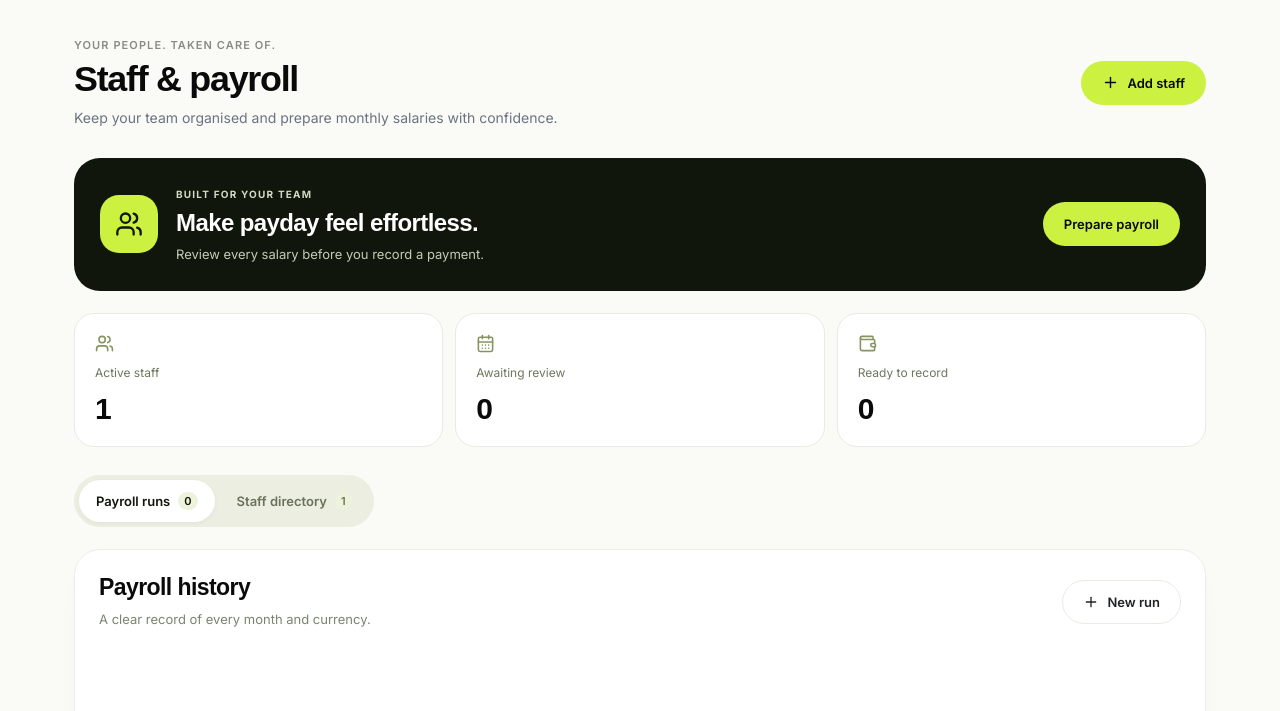
Test: prepares, reviews, approves and explicitly confirms a demo payment
Click the button "Prepare payroll".
click(1111, 224)  # box [1043,202,1180,246]
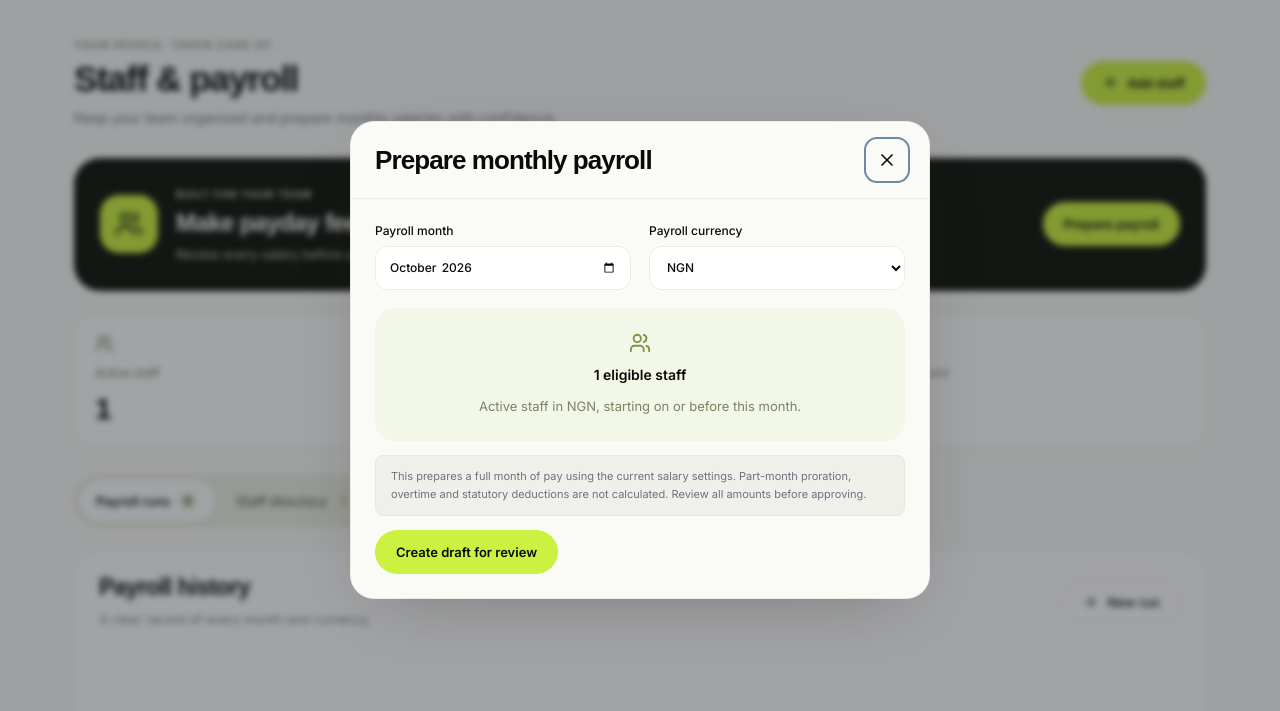
Click the button "Create draft for review".
click(467, 552)  # box [375,530,558,574]
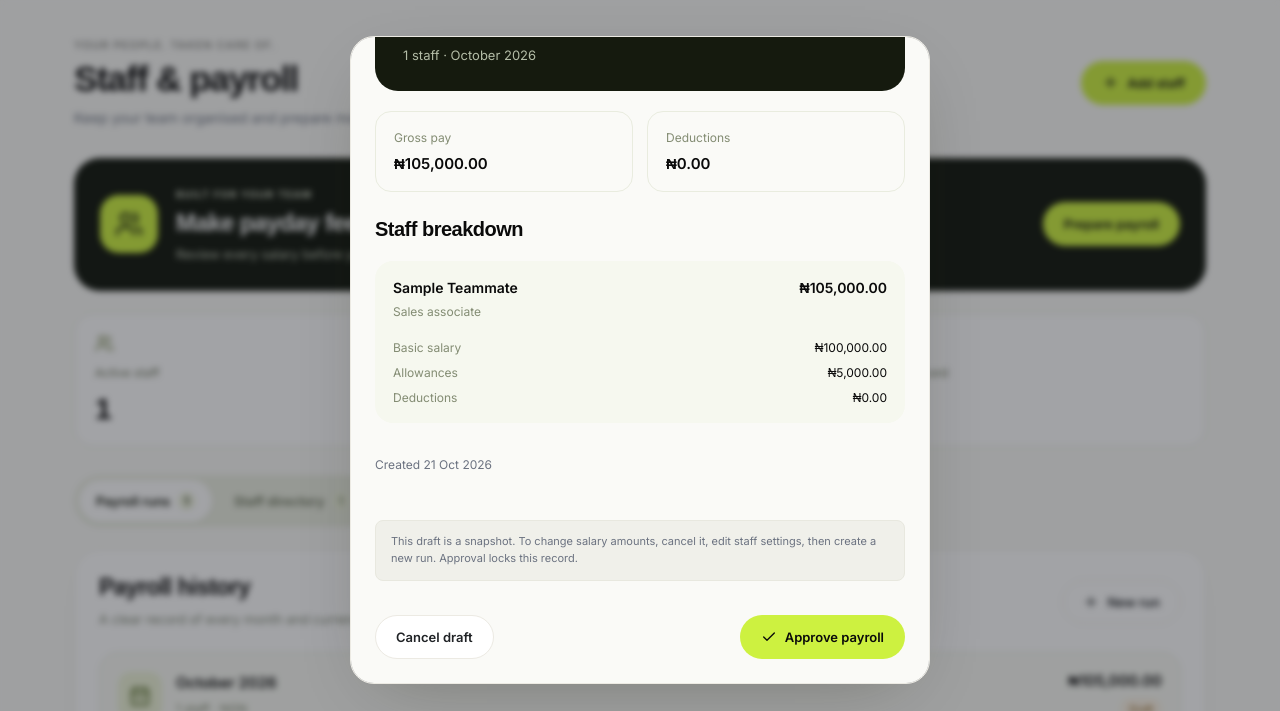
Click the button "Approve payroll".
click(822, 637)  # box [740,615,905,659]
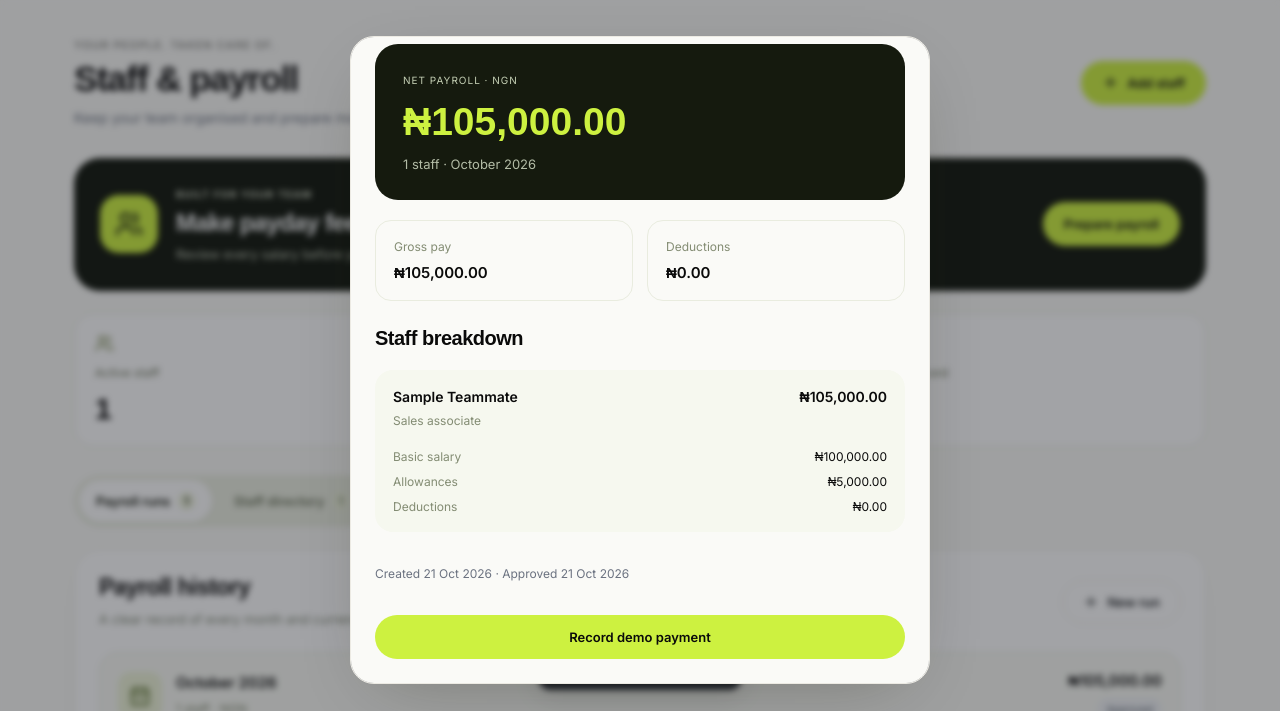
Click the button "Record demo payment".
click(640, 637)  # box [375,615,905,659]
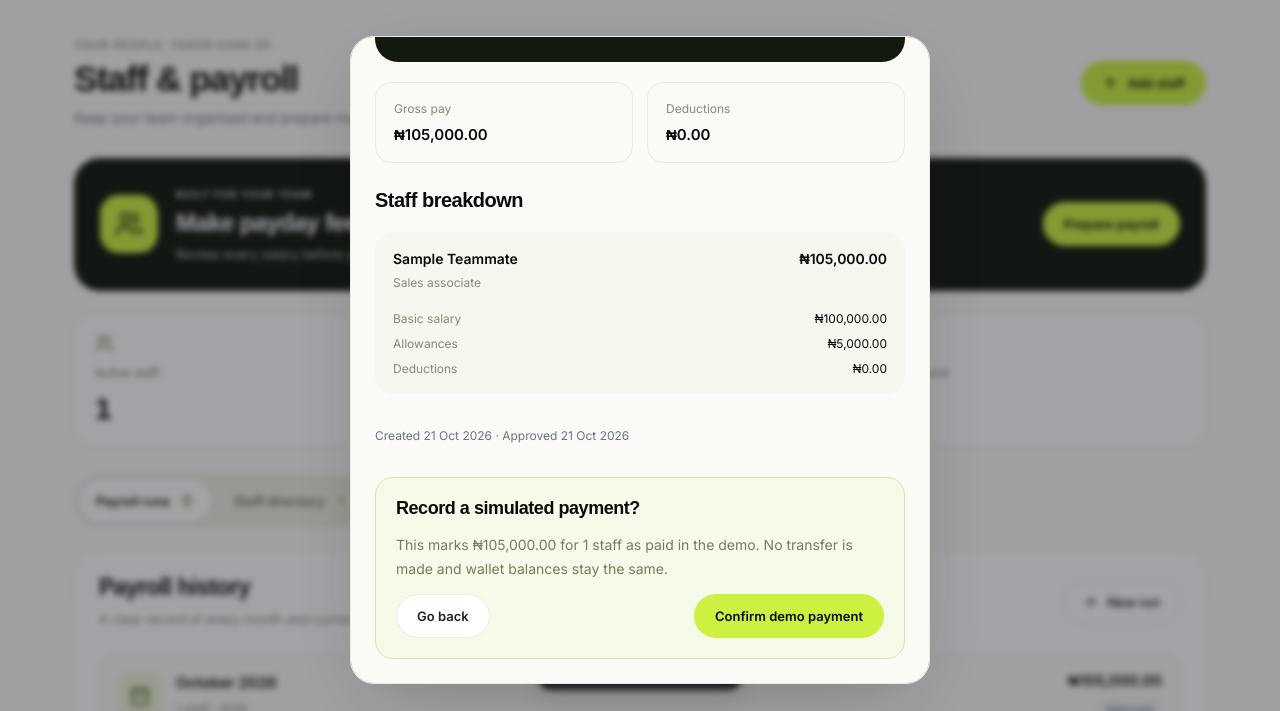
Click the button "Confirm demo payment".
click(789, 616)  # box [694,594,884,638]
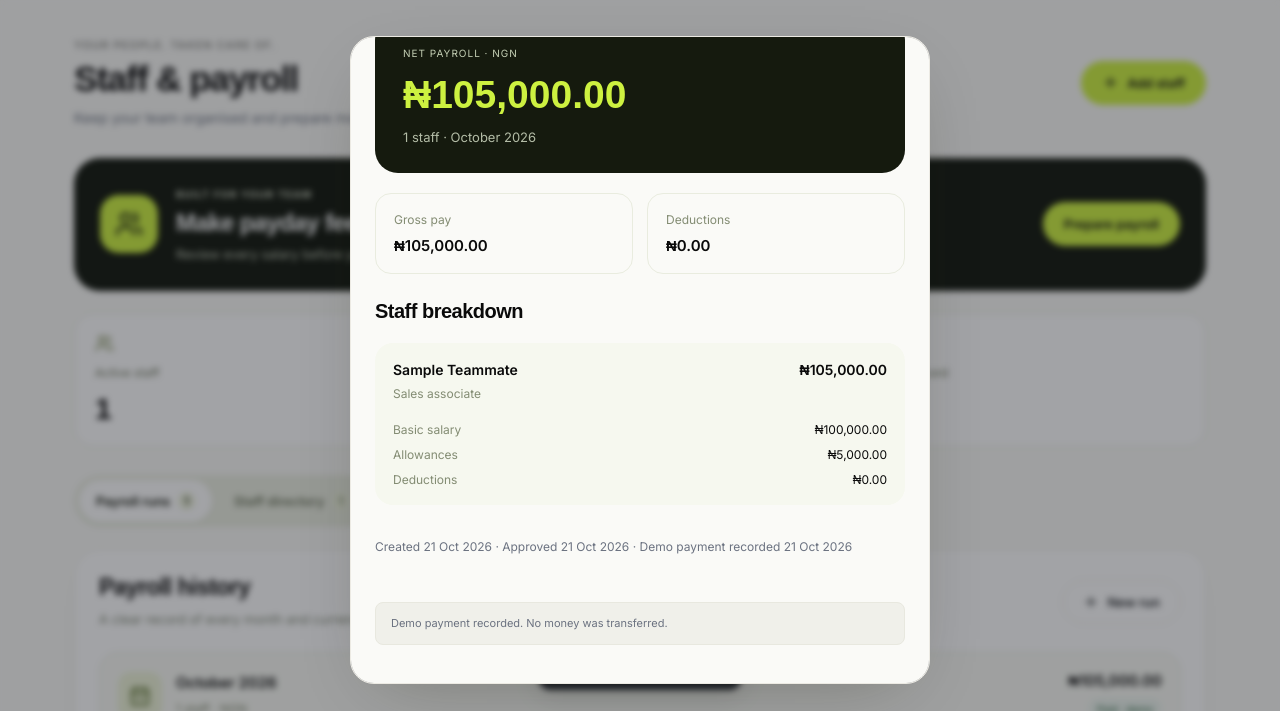
Now the text "Demo payment recorded. No money was transferred." is shown, box [375,602,905,645]
